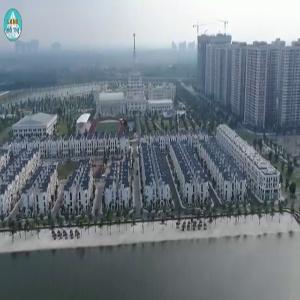drone: (94, 92, 156, 154)
